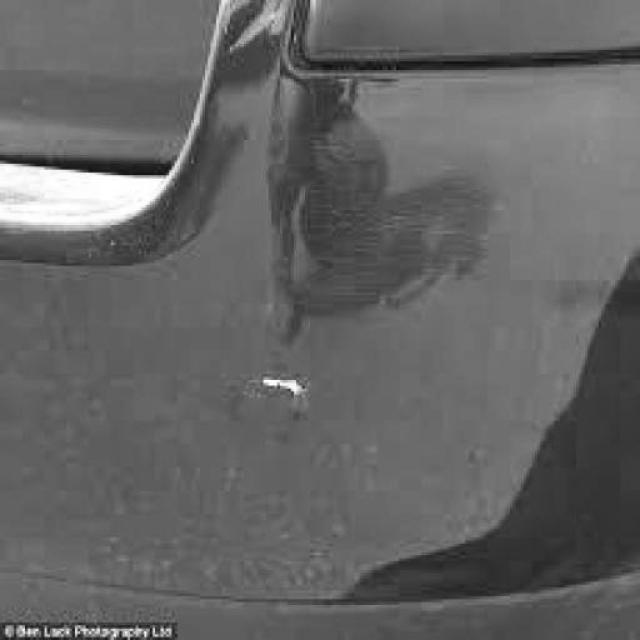car damage: (218, 89, 567, 427)
